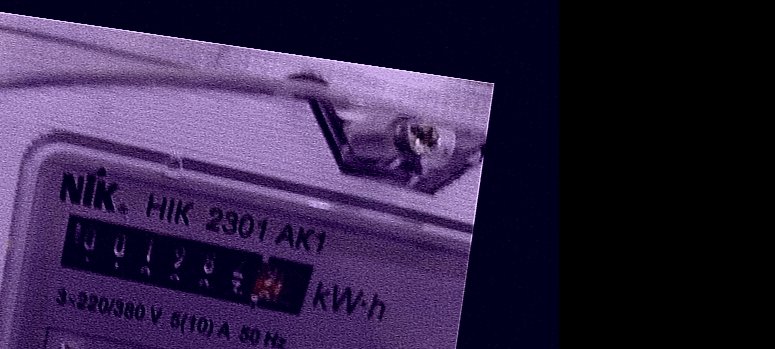0: (108, 229, 129, 260), (79, 222, 99, 253)
1: (140, 234, 156, 264)
2: (228, 250, 250, 281)
8: (198, 246, 218, 276)
9: (258, 260, 282, 291), (168, 241, 187, 272)
screen: (38, 197, 330, 333)
